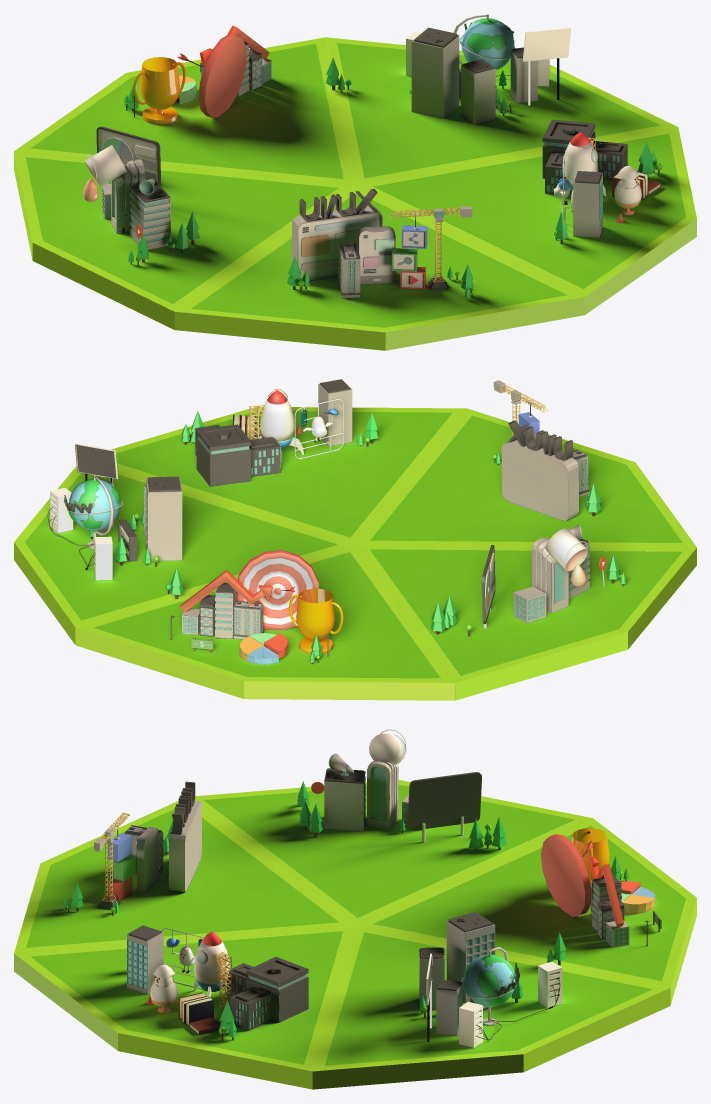
3 views of the same model, one above another, from view 1: azimuth 30°, elevation 25°; view 2: azimuth 150°, elevation 25°; view 3: azimuth 270°, elevation 25° (orthographic). The views are drawn at different scales.
Parts seen in each view (by area): view 1: GROUND.001, Commercial building lowpoly 08.038, Text.002, Cube.051, Text.001, Commercial building lowpoly 05.013, Sphere.008, Cylinder.002, Cube.071, Cylinder.024, Cube.090, Cube.050; view 2: GROUND.001, Commercial building lowpoly 08.038, Cube.051, Text.002, Text.001, Commercial building lowpoly 05.013, Sphere.008, Cube.050, Cylinder.024, Cube.090, Sphere.002, Cylinder.002; view 3: GROUND.001, Commercial building lowpoly 08.038, Cube.051, Text.001, Text.002, Cylinder.002, Commercial building lowpoly 05.013, Sphere.008, Cube.090, Cylinder.024, Cube.071, Cube.002 (+2 smaller).
Boxes of the visible parts, <box> form: GROUND.001: <box>14,37,696,350</box>; Commercial building lowpoly 08.038: <box>102,27,627,298</box>; Text.002: <box>291,189,395,284</box>; Cube.051: <box>133,25,269,124</box>; Text.001: <box>406,18,570,105</box>; Commercial building lowpoly 05.013: <box>124,57,657,299</box>; Sphere.008: <box>556,132,641,218</box>; Cylinder.002: <box>96,126,161,186</box>; Cube.071: <box>392,225,427,289</box>; Cylinder.024: <box>83,145,154,242</box>; Cube.090: <box>389,137,624,289</box>; Cube.050: <box>124,62,662,297</box>; GROUND.001: <box>14,406,696,700</box>; Commercial building lowpoly 08.038: <box>97,379,589,639</box>; Cube.051: <box>170,550,343,656</box>; Text.002: <box>501,420,578,520</box>; Text.001: <box>50,443,136,580</box>; Commercial building lowpoly 05.013: <box>88,410,626,664</box>; Sphere.008: <box>259,389,343,467</box>; Cube.050: <box>134,428,622,664</box>; Cylinder.024: <box>545,524,606,586</box>; Cube.090: <box>249,380,548,439</box>; Sphere.002: <box>47,475,122,569</box>; Cylinder.002: <box>481,545,495,628</box>; GROUND.001: <box>14,780,696,1089</box>; Commercial building lowpoly 08.038: <box>124,760,629,1035</box>; Cube.051: <box>541,828,649,946</box>; Text.001: <box>426,953,562,1047</box>; Text.002: <box>136,781,201,892</box>; Cylinder.002: <box>407,772,481,842</box>; Commercial building lowpoly 05.013: <box>63,781,628,1040</box>; Sphere.008: <box>150,928,229,1013</box>; Cube.090: <box>94,812,231,1007</box>; Cylinder.024: <box>311,729,406,807</box>; Cube.071: <box>108,833,136,901</box>; Cube.002: <box>178,992,220,1034</box>.
Bounding box in the file's own units: 3.46 × 0.5534 × 3.43.
Materials: 96 (96 with a texture image).
